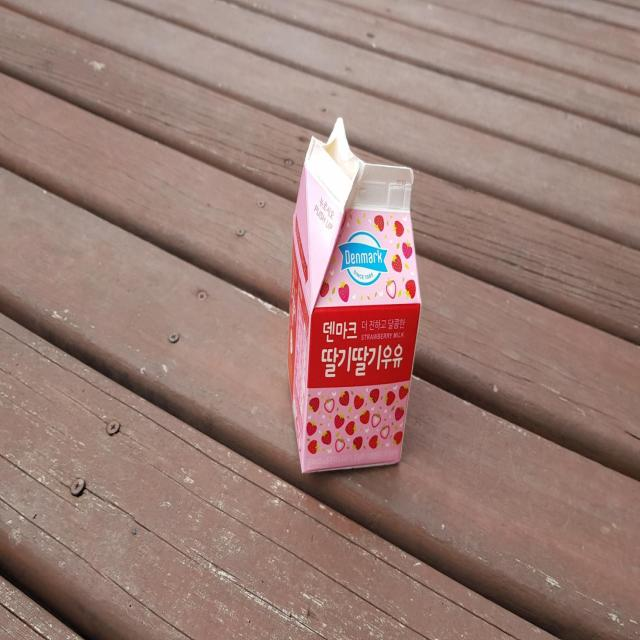paperpack: (288, 116, 421, 473)
